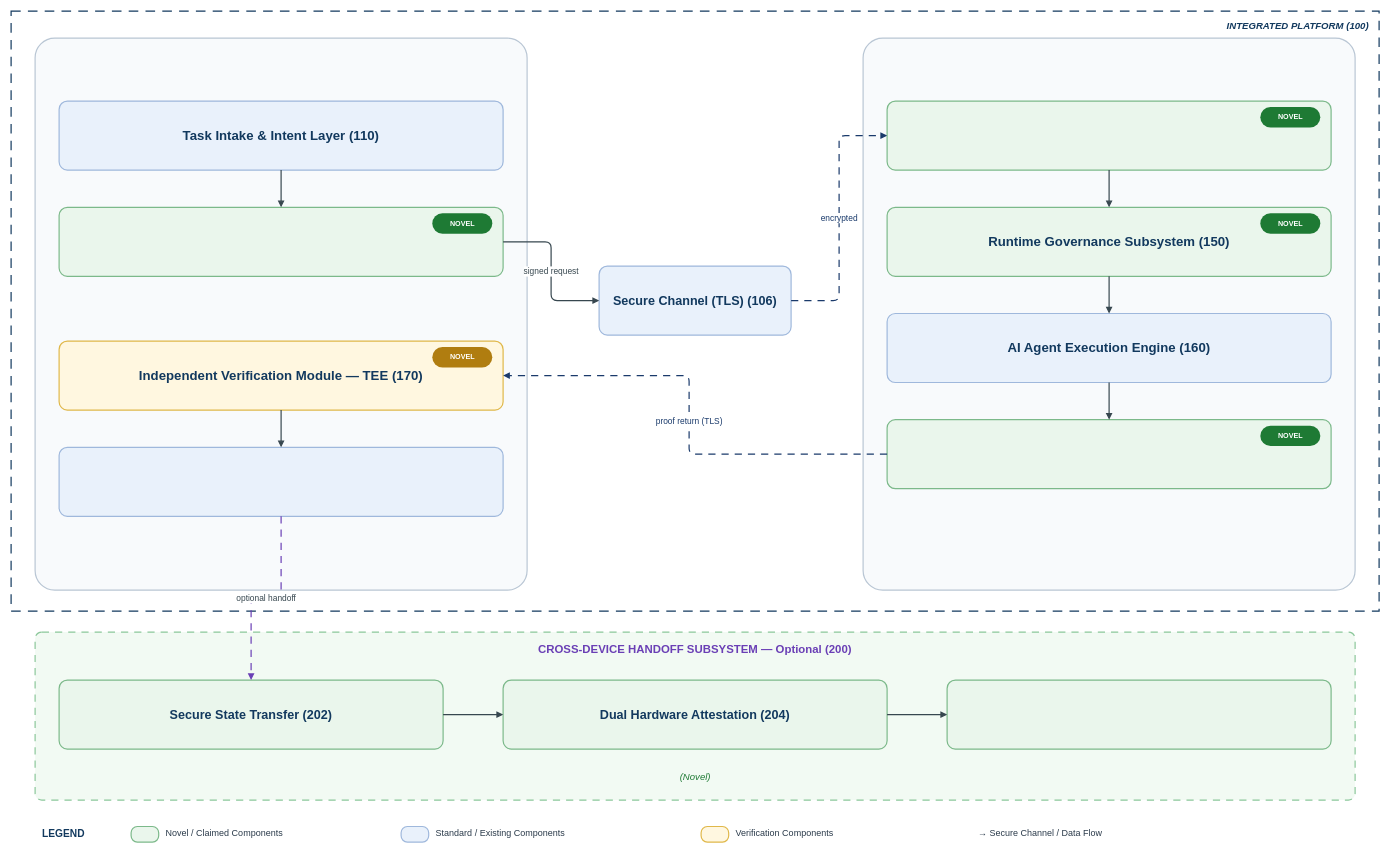
This 1390x854 diagram has some shape labels left out. Each missing label, with the box of its shape:
Compliance Certificate & Secure Store (180): (58, 446, 503, 517)
Continuous Proof Chain (206): (946, 679, 1331, 749)
Dual-Accountability Proof Engine (190): (886, 419, 1331, 489)
Execution Contract Authority — TEE (120): (58, 206, 503, 277)
ON-DEVICE TRUSTED EXECUTION DOMAIN (102): (34, 37, 527, 590)
REMOTE AGENT EXECUTION DOMAIN (104): (862, 37, 1355, 590)
Remote Compliance Enforcement Engine (140): (886, 100, 1331, 170)
